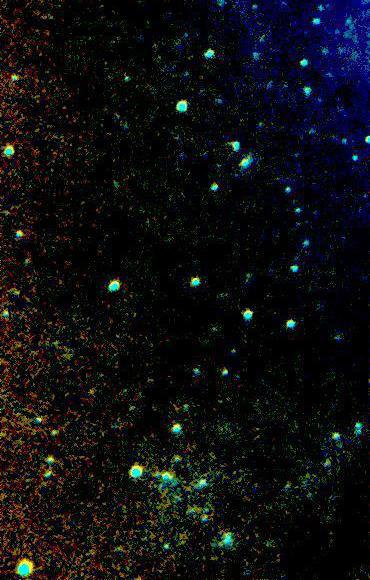star: (77, 378, 107, 408)
